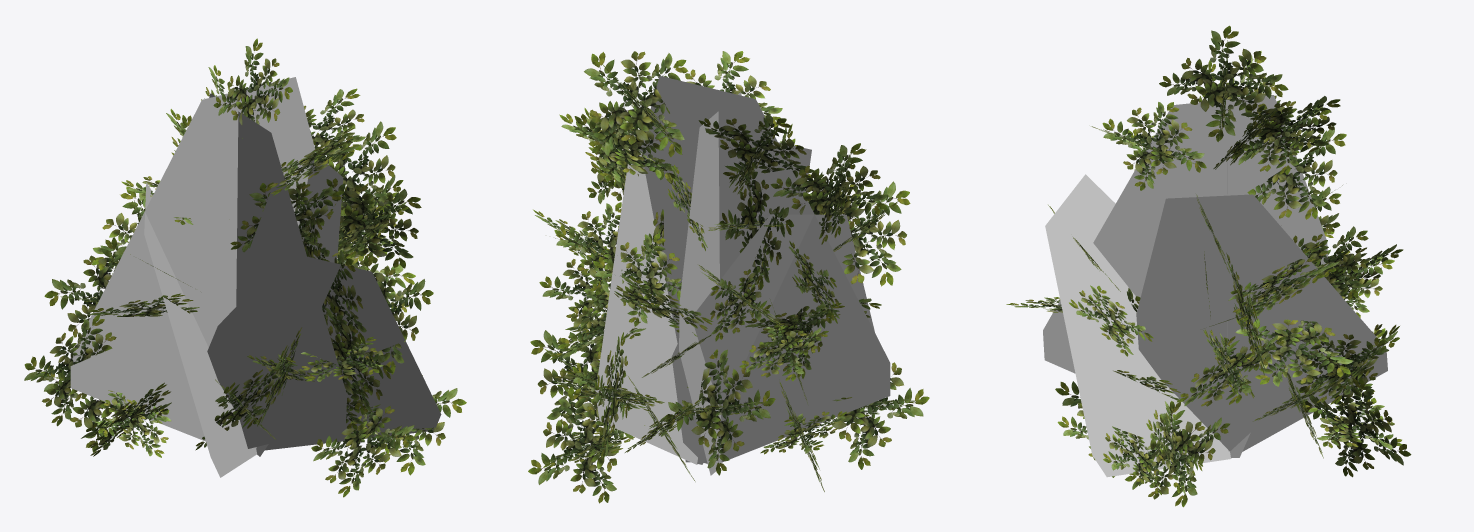
The model's file is bush-02.fbx.
The picture shows the model from 3 angles, left to right: view 1: azimuth 30°, elevation 25°; view 2: azimuth 150°, elevation 25°; view 3: azimuth 270°, elevation 25°; orthographic projection. The views are drawn at different scales.
Visible parts, largest first — view 1: bush-02; view 2: bush-02; view 3: bush-02.
Part boxes in pixels (bbox=[...]): bush-02: bbox=[24, 38, 466, 497]; bush-02: bbox=[528, 51, 929, 503]; bush-02: bbox=[1006, 25, 1411, 507].
Size of the model in its own units: 834 by 870 by 818.
